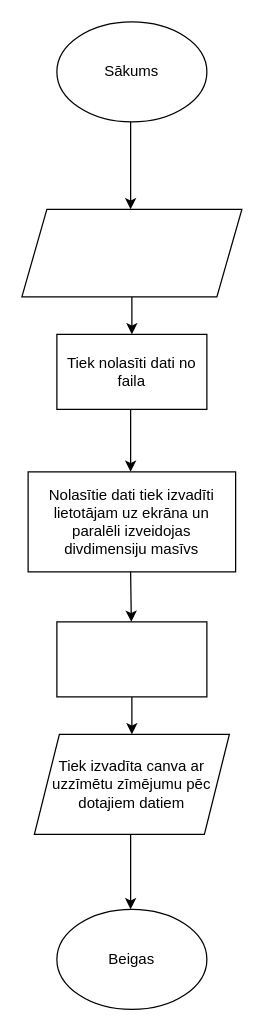
The diagram is 264 pixels wide and 1031 high, and some of its shapes have lost their labels. Each missing label, with the box of its shape:
Iedodam programmai failu ar koordināšu datiem: (21, 208, 242, 297)
No izveidotā masīva nolasa datus un izveido canvu pēc datiem: (56, 621, 207, 697)
